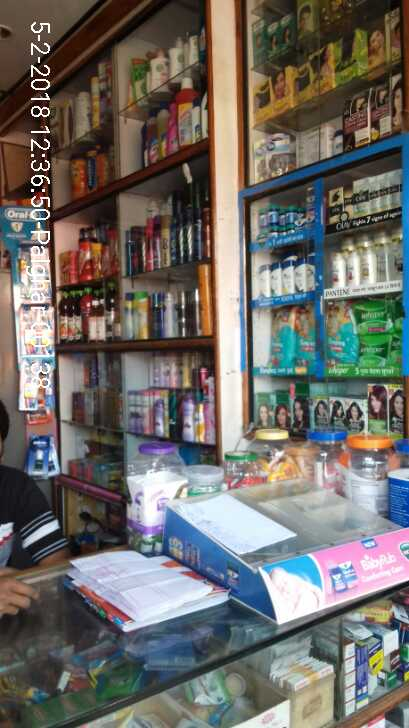oralcare: (4, 206, 55, 417)
vicks: (255, 184, 323, 241)
